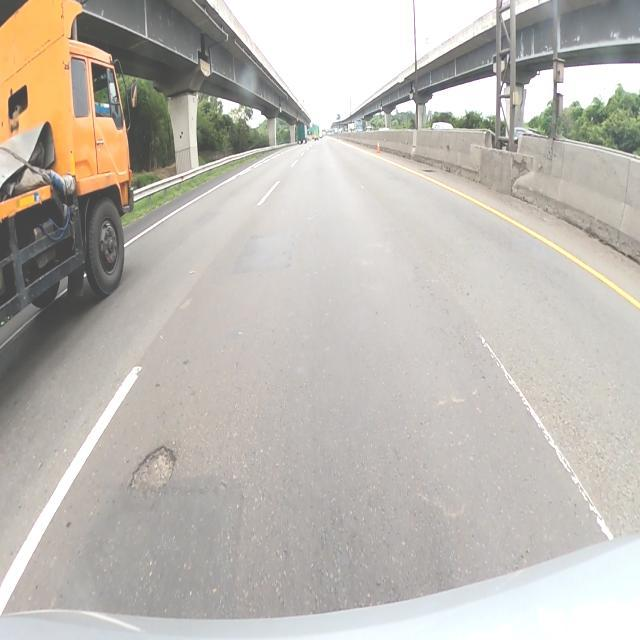Buraco: (126, 443, 179, 496), (420, 168, 438, 174)
